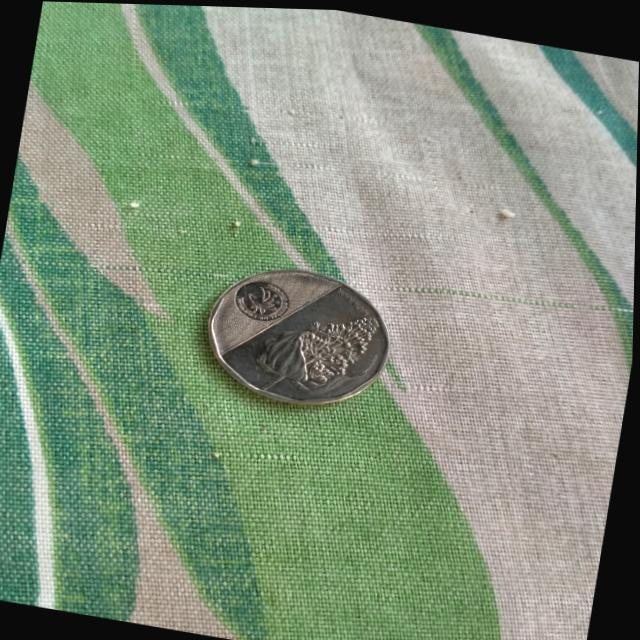10_New_Back: (251, 289, 388, 412)
